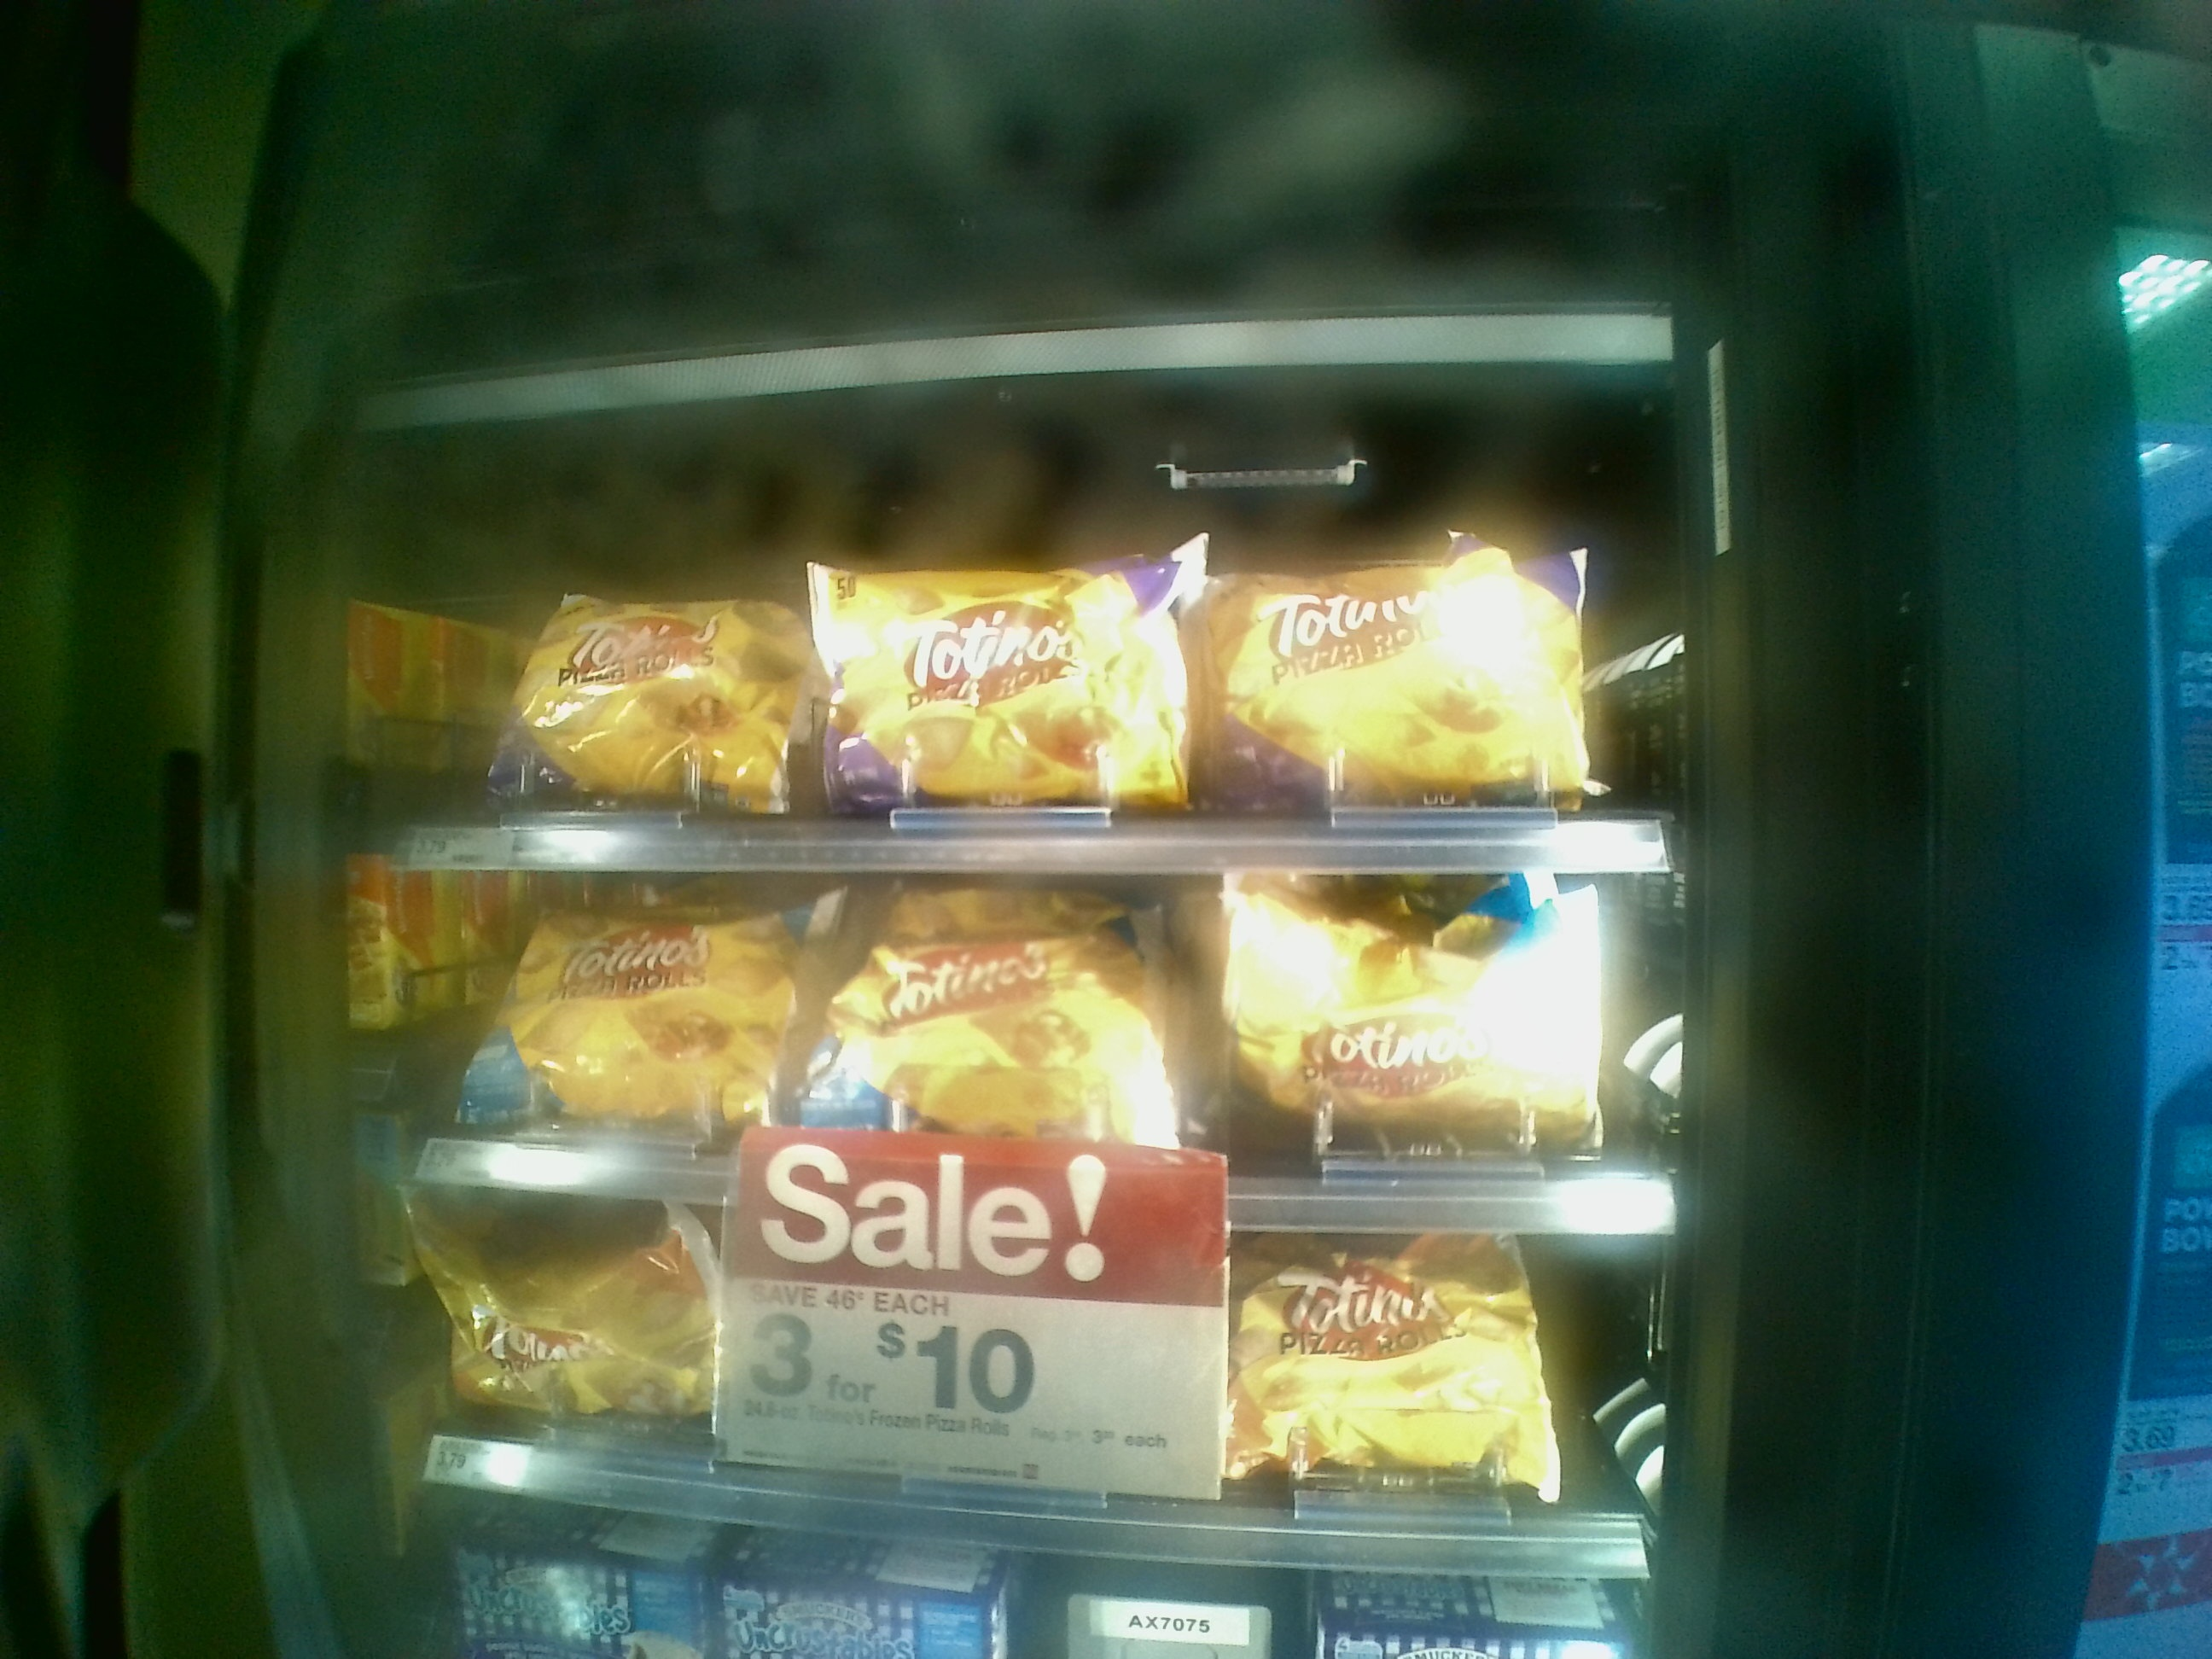shelf: (350, 1164, 1655, 1567), (364, 845, 1667, 1209), (354, 518, 1674, 866)
